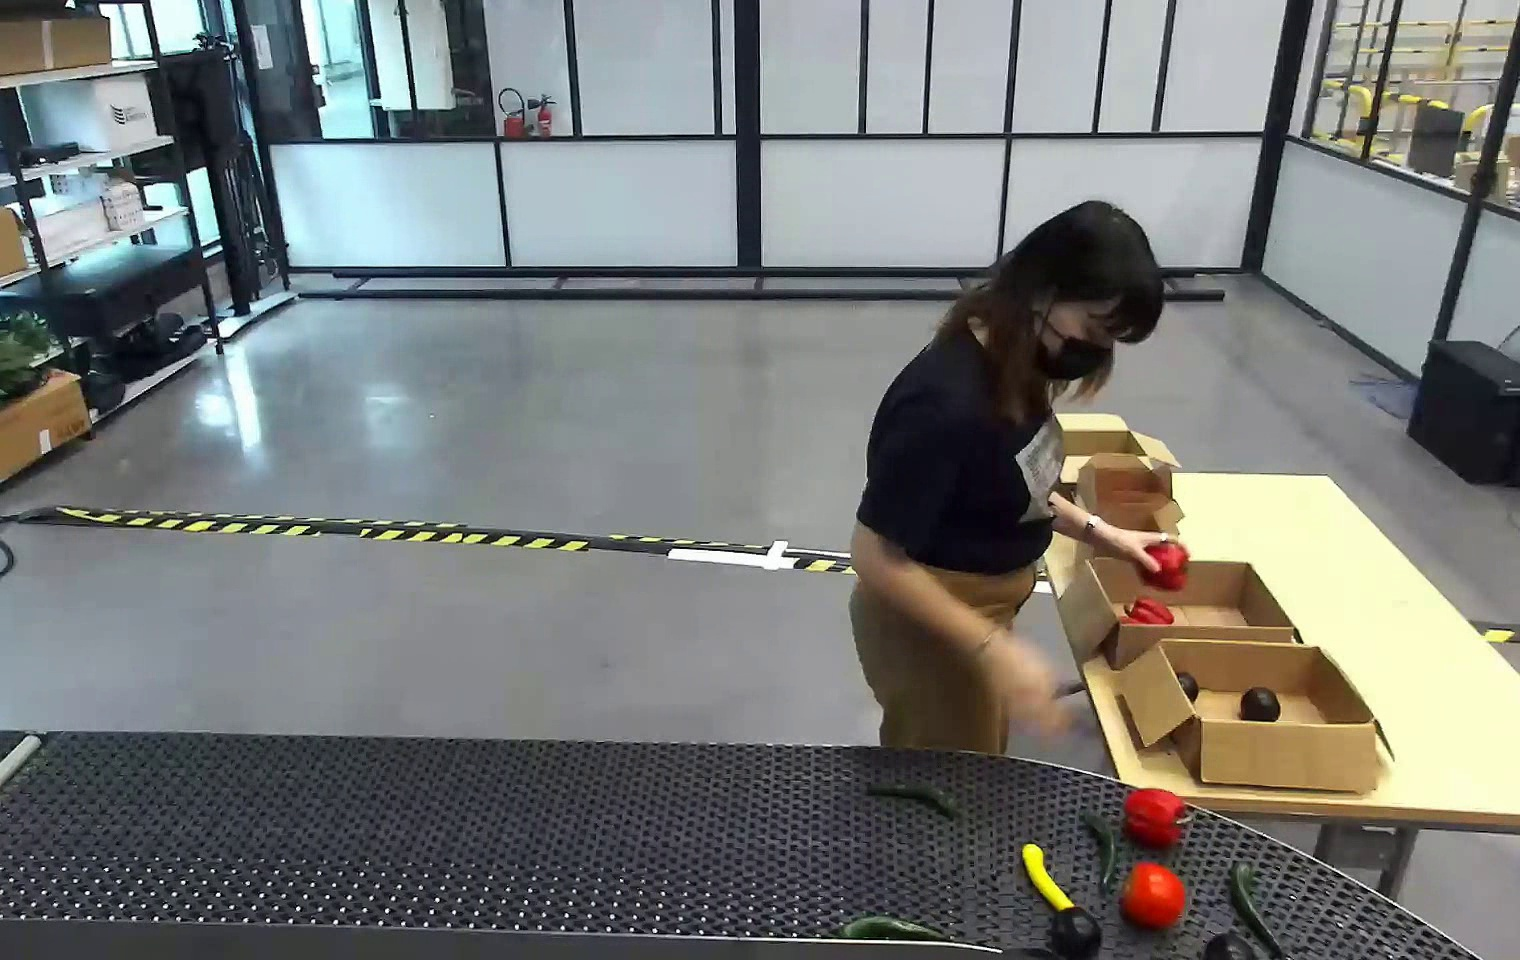Main droite: (990, 632, 1072, 743)
